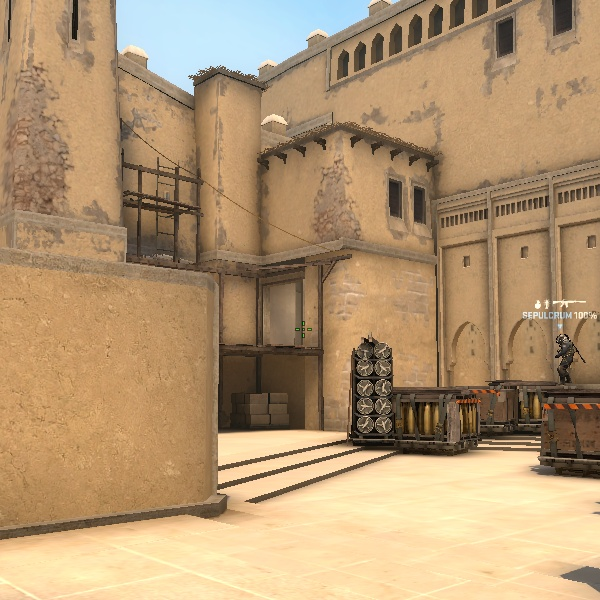ct_head: (553, 333, 569, 349)
t_body: (544, 330, 585, 382)
